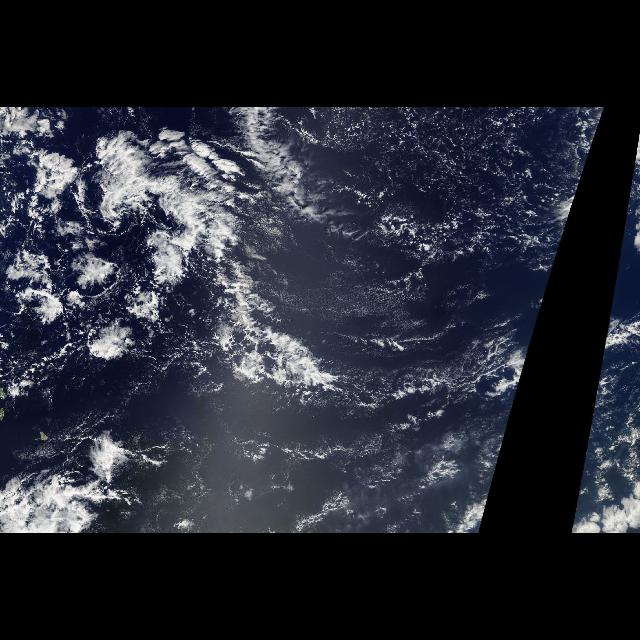Fish: (210, 258, 558, 430), (588, 258, 632, 430)
Flower: (3, 113, 227, 424)
Gravel: (275, 112, 553, 282)
Sugar: (288, 113, 604, 251), (171, 444, 451, 528), (620, 157, 634, 251)
